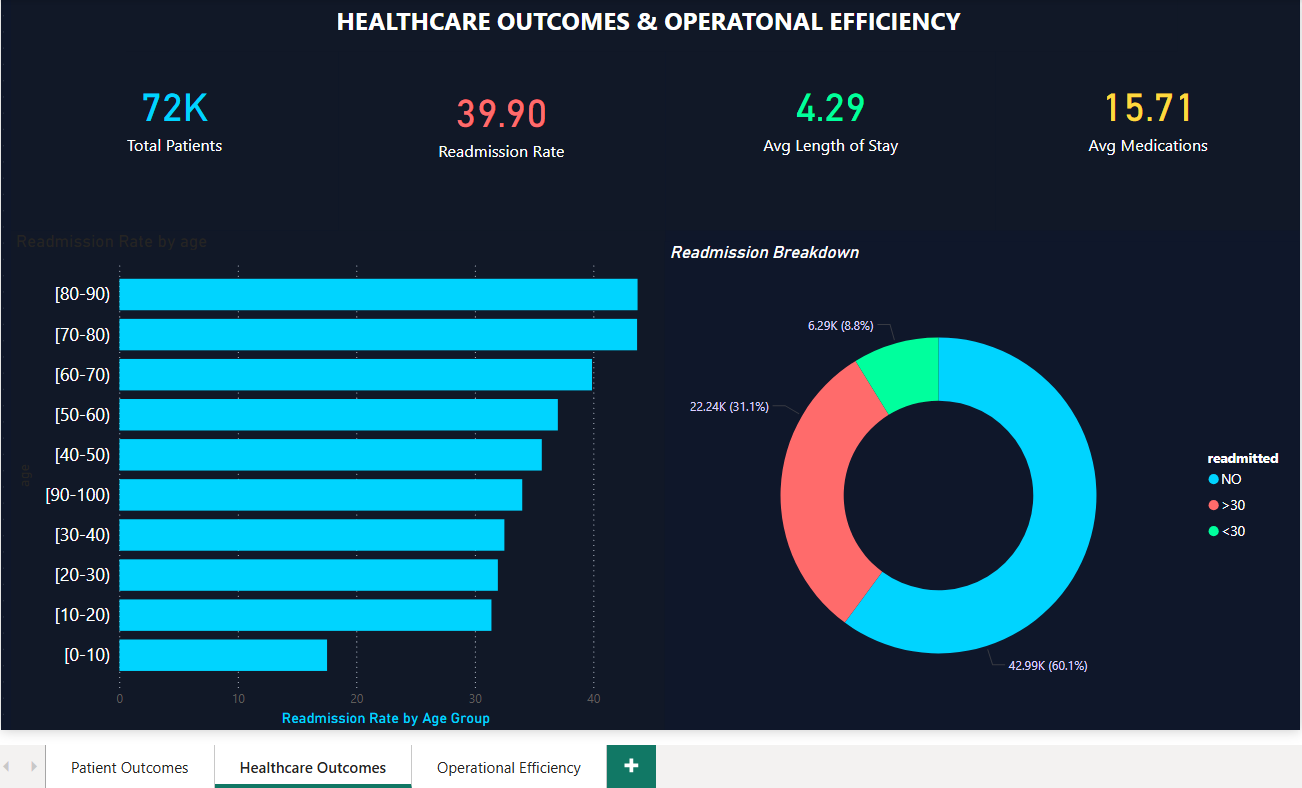

This screenshot's page, from the dashboard's own definition file:
{"tool":"powerbi","page":{"name":"Healthcare Outcomes","canvas":[1280,720],"ordinal":1},"visuals":[{"type":"card","fields":{"Values":["diabetic_cleaned.Total Patients"]},"box":[9.8,0,322.5,227.7],"z":0},{"type":"card","fields":{"Values":["diabetic_cleaned.Readmission Rate"]},"box":[332.3,0,321.2,238.8],"z":1000},{"type":"card","fields":{"Values":["diabetic_cleaned.Avg Length of Stay"]},"box":[654.8,0,324.9,227.7],"z":2000},{"type":"card","fields":{"Values":["diabetic_cleaned.Avg Medications"]},"box":[979.7,0,300.3,227.7],"z":3000},{"type":"clusteredBarChart","fields":{"Category":["diabetic_cleaned.age"],"Y":["diabetic_cleaned.Readmission Rate"]},"box":[10.3,227.4,643.9,493.3],"z":4000},{"type":"donutChart","title":"Readmission Breakdown","fields":{"Category":["diabetic_cleaned.readmitted"],"Y":["CountNonNull(diabetic_cleaned.encounter_id)"]},"box":[653.5,238.8,626.5,481.2],"z":5000},{"type":"textbox","box":[122.6,0,1035.3,51.7],"z":6000}]}

Visuals, with their boxes on the page's 1280x720 design canvas (x1, y1, x2, y2). These are canvas units, not pixel positions in the 1302x788 screenshot, which may show the page scaled, cropped or inside an application window:
card - diabetic_cleaned.Total Patients: Rect(10, 0, 332, 228)
card - diabetic_cleaned.Readmission Rate: Rect(332, 0, 654, 239)
card - diabetic_cleaned.Avg Length of Stay: Rect(655, 0, 980, 228)
card - diabetic_cleaned.Avg Medications: Rect(980, 0, 1280, 228)
clusteredBarChart - diabetic_cleaned.age x diabetic_cleaned.Readmission Rate: Rect(10, 227, 654, 721)
"Readmission Breakdown" donutChart: Rect(654, 239, 1280, 720)
textbox: Rect(123, 0, 1158, 52)
